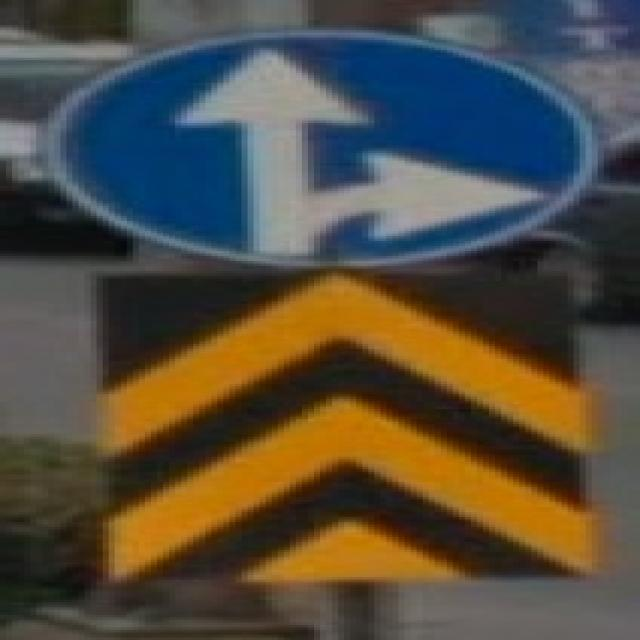Straight or Right: (52, 35, 608, 263)
